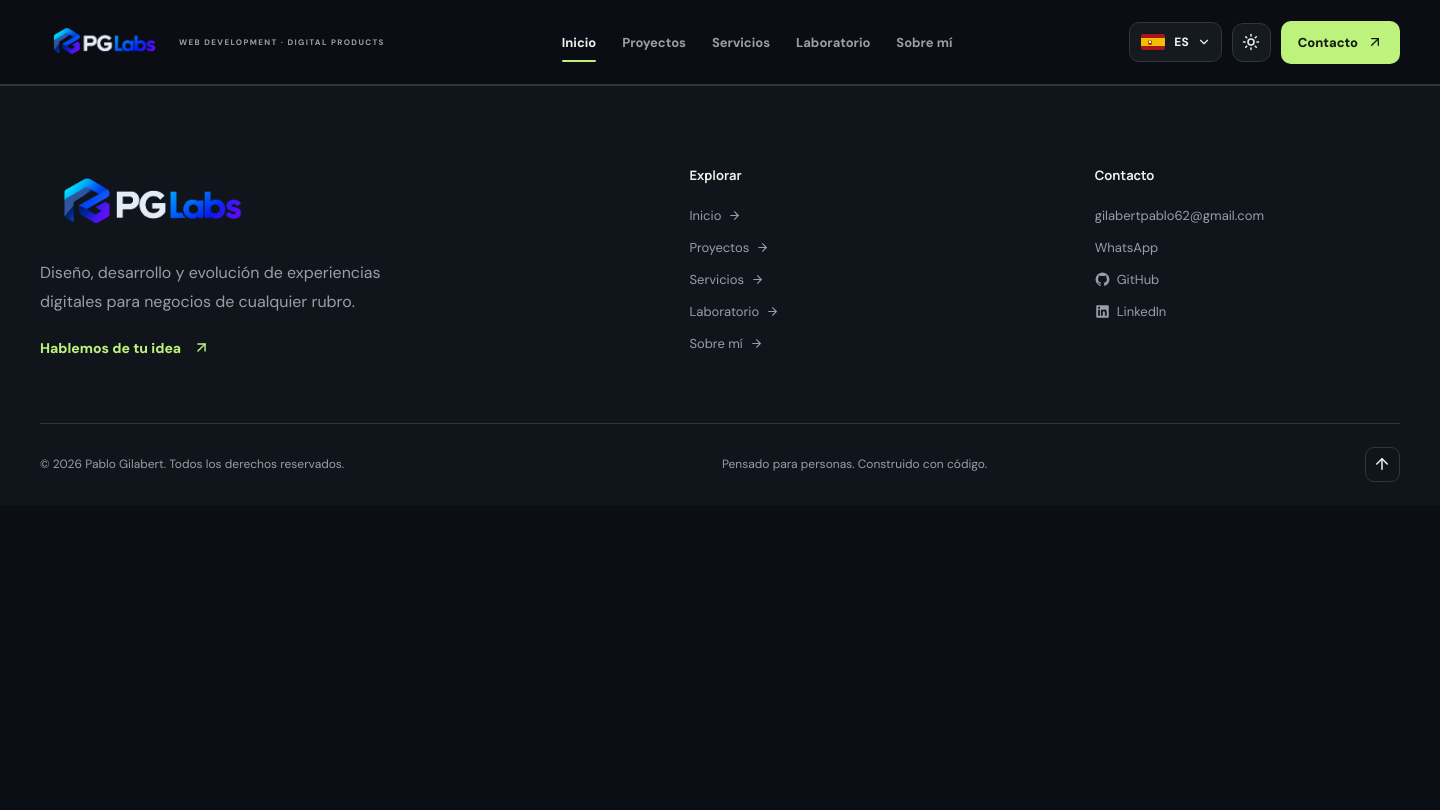
Test: Header — navigation and theme controls › switches the logo artwork and theme button when toggling light mode
The image size is (1440, 810).
Click the button named "Switch to light theme" at (1251, 42), box [1232,22,1271,62]
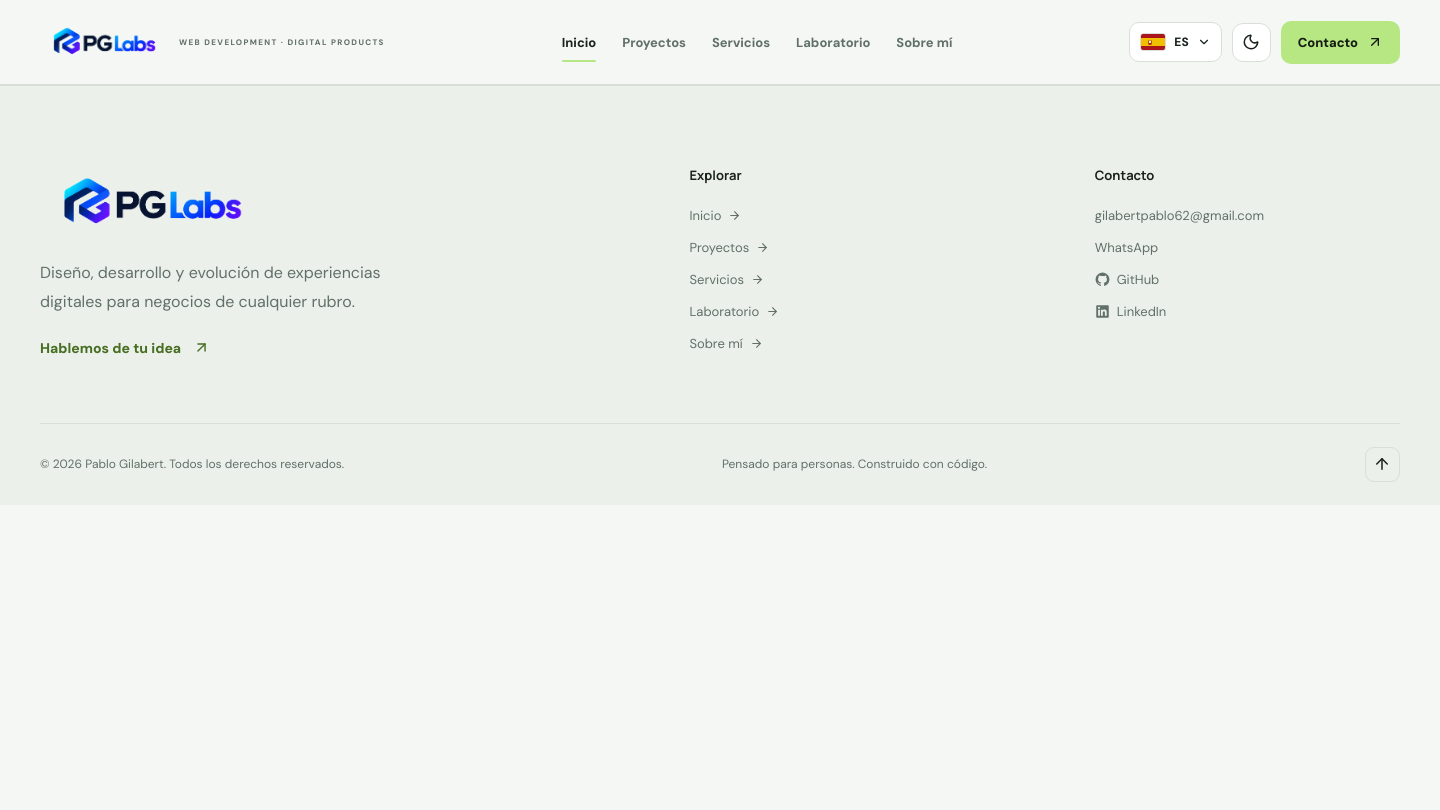
Check: the button named "Cambiar a tema oscuro" is shown, box [1232,22,1271,62]
